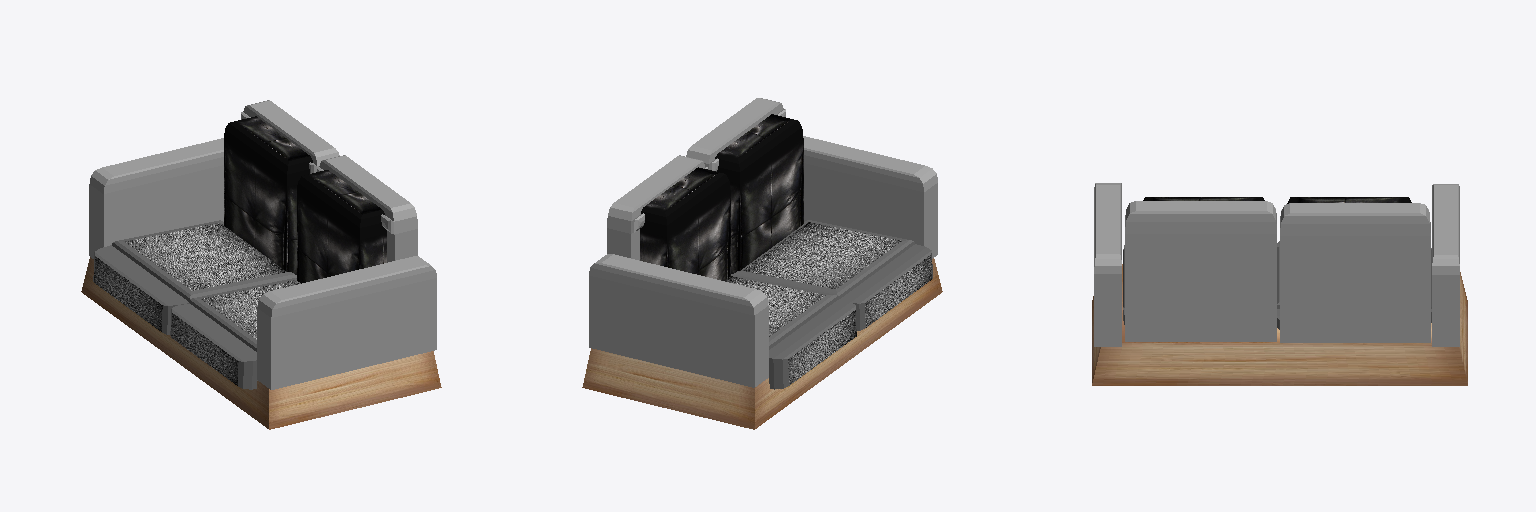
3 views of the same model, side by side, from view 1: azimuth 30°, elevation 25°; view 2: azimuth 150°, elevation 25°; view 3: azimuth 270°, elevation 25° (orthographic).
Visible parts, largest first — view 1: Box2, Box3, Box, Box1, Box9, Box8, Box6, Box4, Box5; view 2: Box1, Box6, Box, Box2, Box8, Box9, Box3, Box5, Box4; view 3: Box4, Box5, Box, Box2, Box1, Box9.
Part boxes in pixels (x1,y1,x2,y2): Box2: (257, 256, 436, 389); Box3: (93, 220, 296, 334); Box: (81, 257, 441, 429); Box1: (89, 138, 223, 258); Box9: (224, 116, 312, 274); Box8: (297, 170, 386, 283); Box6: (170, 278, 300, 389); Box4: (317, 155, 417, 262); Box5: (241, 100, 339, 173); Box1: (589, 254, 768, 387); Box6: (734, 220, 932, 330); Box: (582, 258, 942, 429); Box2: (803, 136, 937, 258); Box8: (715, 114, 803, 273); Box9: (640, 167, 730, 280); Box3: (725, 274, 856, 389); Box5: (607, 155, 707, 260); Box4: (686, 98, 785, 171); Box4: (1125, 201, 1276, 341); Box5: (1280, 203, 1430, 342); Box: (1092, 264, 1467, 385); Box2: (1094, 183, 1121, 346); Box1: (1432, 184, 1459, 346); Box9: (1287, 197, 1411, 203).
Size of the model in its own units: 2.67 by 2.38 by 4.75.
4 materials, 3 textured.